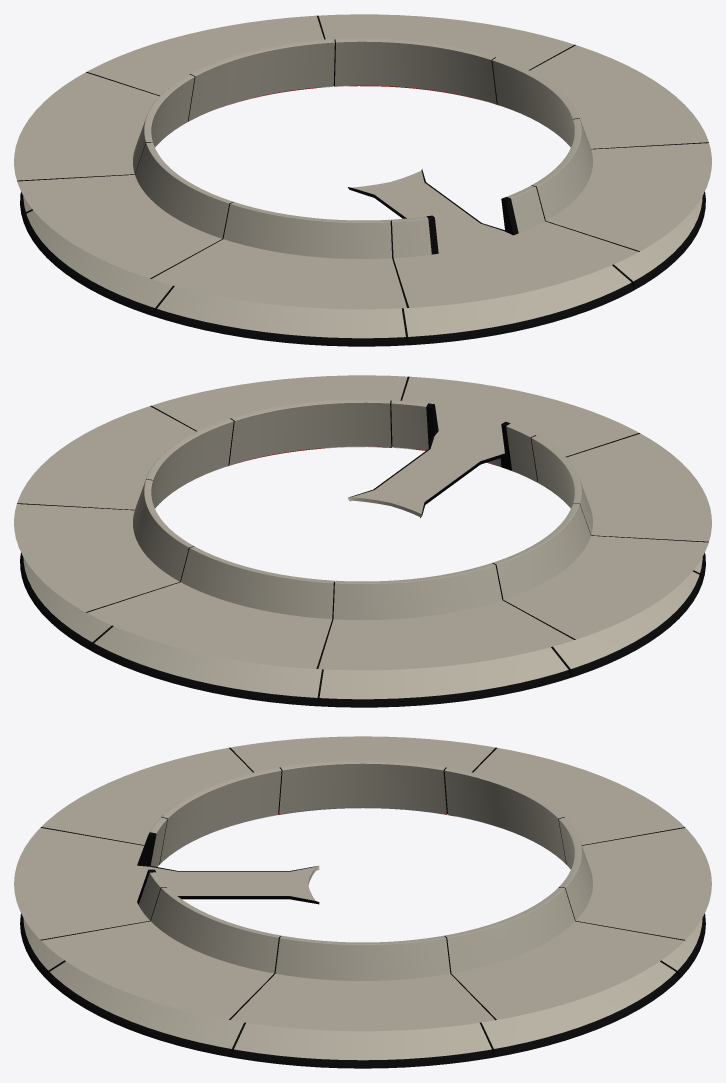
The model's file is OV lvl.fbx.
3 views of the same model, one above another, from view 1: azimuth 30°, elevation 25°; view 2: azimuth 150°, elevation 25°; view 3: azimuth 270°, elevation 25° (orthographic).
Parts seen in each view (by area): view 1: Scene_2:polySurface217; view 2: Scene_2:polySurface217; view 3: Scene_2:polySurface217.
Part boxes in pixels (x1,y1,x2,y2): Scene_2:polySurface217: (14, 14, 711, 346); Scene_2:polySurface217: (14, 375, 711, 707); Scene_2:polySurface217: (14, 736, 711, 1068).
Size of the model in its own units: 1841 by 208 by 1841.
Materials: 2 (1 with a texture image).
